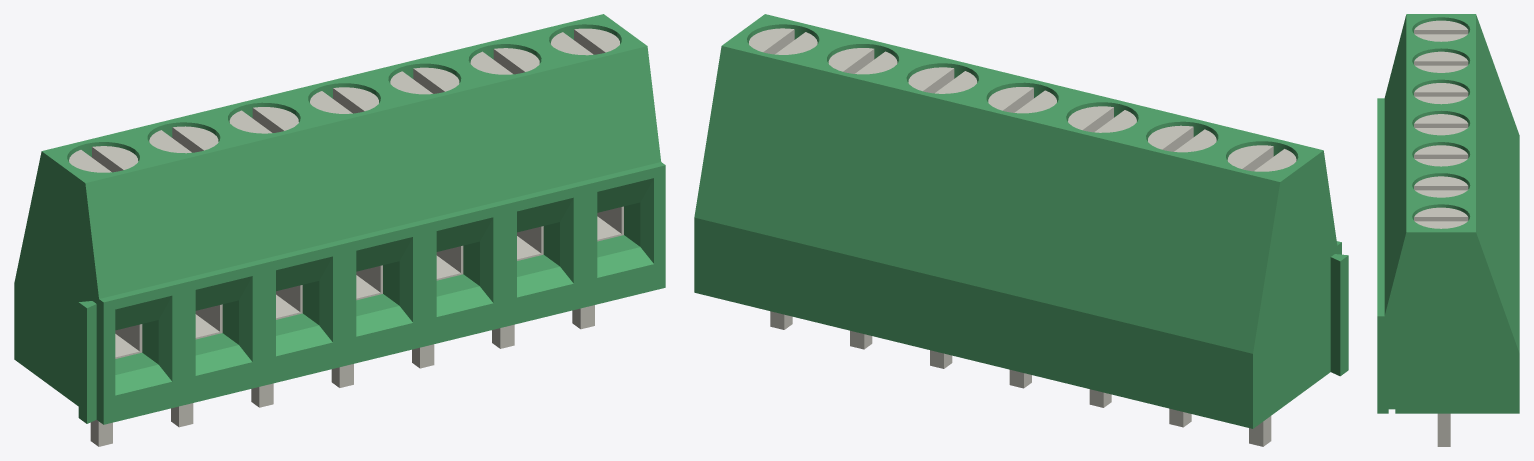
Rendered from kc-terminalblock_phoenix_mkds-1_5-7-5.08_1x07_p5.08mm_horizontal.glb.
3 views of the same model, side by side, from view 1: azimuth 30°, elevation 25°; view 2: azimuth 150°, elevation 25°; view 3: azimuth 270°, elevation 25° (orthographic). The views are drawn at different scales.
Parts seen in each view (by area): view 1: 0.08333333333333333_0.4166666666666667_0.16666666666666666_0, 0.6666666666666666_0.6666666666666666_0.5833333333333334_0.8; view 2: 0.08333333333333333_0.4166666666666667_0.16666666666666666_0, 0.6666666666666666_0.6666666666666666_0.5833333333333334_0.8; view 3: 0.08333333333333333_0.4166666666666667_0.16666666666666666_0, 0.6666666666666666_0.6666666666666666_0.5833333333333334_0.8.
Boxes of the visible parts, x1=… form: 0.08333333333333333_0.4166666666666667_0.16666666666666666_0: x1=14, y1=14, x2=665, y2=424; 0.6666666666666666_0.6666666666666666_0.5833333333333334_0.8: x1=69, y1=28, x2=623, y2=446; 0.08333333333333333_0.4166666666666667_0.16666666666666666_0: x1=694, y1=14, x2=1348, y2=428; 0.6666666666666666_0.6666666666666666_0.5833333333333334_0.8: x1=749, y1=28, x2=1296, y2=446; 0.08333333333333333_0.4166666666666667_0.16666666666666666_0: x1=1377, y1=14, x2=1519, y2=413; 0.6666666666666666_0.6666666666666666_0.5833333333333334_0.8: x1=1414, y1=20, x2=1468, y2=446.
Bounding box in the file's own units: 3.63 × 1.73 × 0.9799.
